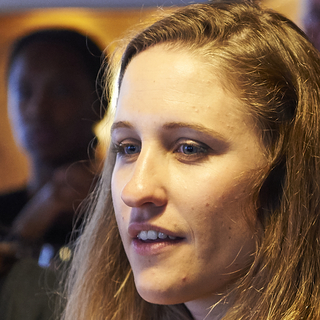eye: (164, 135, 215, 163), (114, 135, 145, 163)
